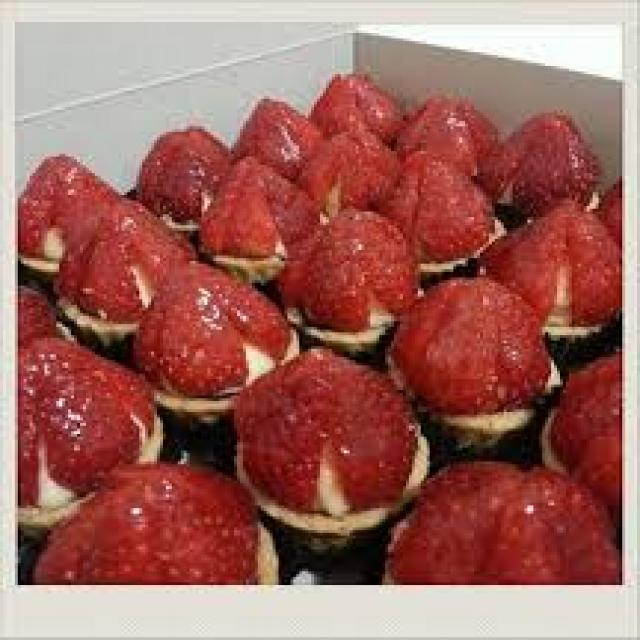organic waste: (228, 341, 427, 538), (382, 272, 560, 448), (23, 464, 278, 582), (382, 459, 619, 582), (134, 258, 296, 418), (18, 335, 157, 517), (272, 203, 418, 349), (56, 198, 210, 313), (373, 143, 507, 275), (539, 346, 637, 511), (195, 157, 335, 269), (480, 107, 604, 225), (18, 151, 136, 269), (136, 126, 249, 222), (302, 134, 418, 220), (394, 94, 498, 178), (225, 96, 329, 173), (311, 71, 412, 143), (15, 278, 77, 352)
